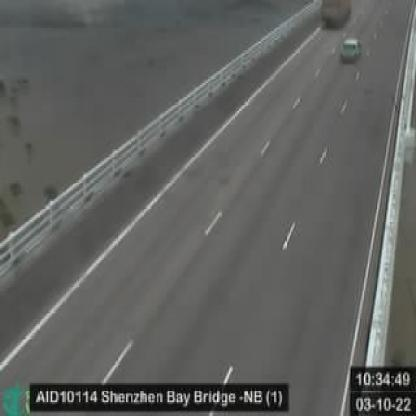Car: (341, 38, 360, 63)
